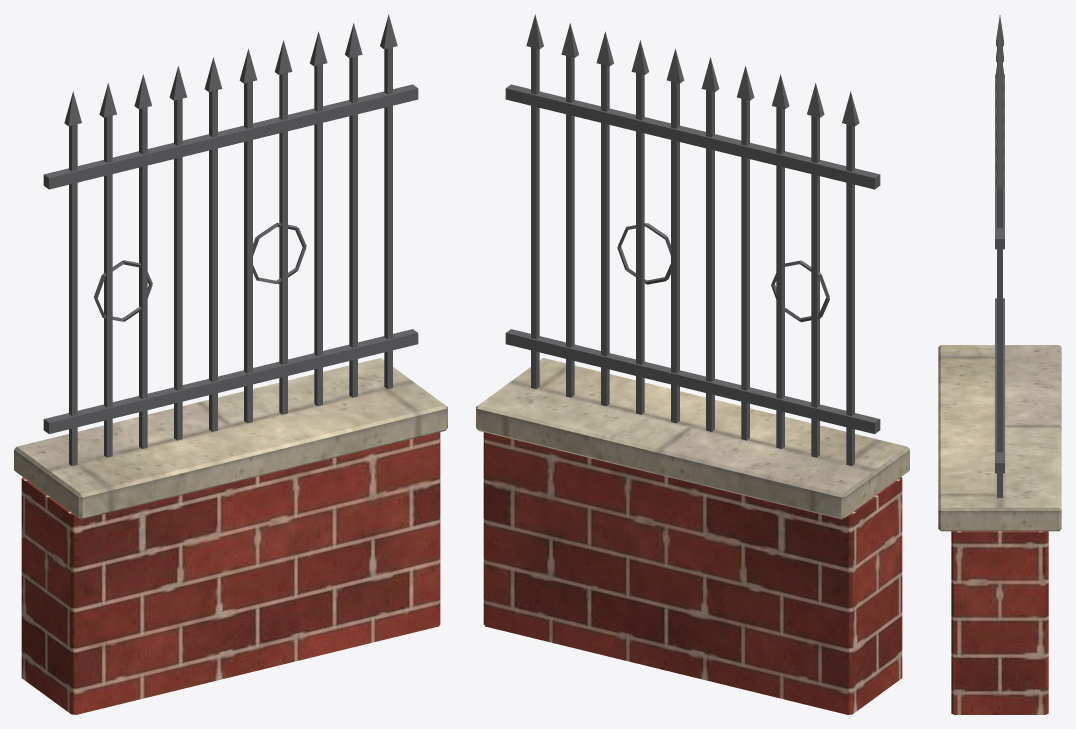
Rendered from fence_120.glb.
3 views of the same model, side by side, from view 1: azimuth 30°, elevation 25°; view 2: azimuth 150°, elevation 25°; view 3: azimuth 270°, elevation 25° (orthographic). The views are drawn at different scales.
Parts seen in each view (by area): view 1: fence_120_brick, fence_120_iron, fence_120_stone_t; view 2: fence_120_brick, fence_120_iron, fence_120_stone_t; view 3: fence_120_stone_t, fence_120_brick, fence_120_iron.
Part boxes in pixels (x1,y1,x2,y2): fence_120_brick: (21,432,440,714); fence_120_iron: (43,14,418,465); fence_120_stone_t: (14,358,447,519); fence_120_brick: (483,432,902,714); fence_120_iron: (505,14,880,465); fence_120_stone_t: (476,358,909,519); fence_120_stone_t: (938,345,1061,531); fence_120_brick: (951,531,1048,714); fence_120_iron: (995,15,1004,497).
Bounding box in the file's own units: 1.2 × 1.86 × 0.38.
Materials: 3 (2 with a texture image).
